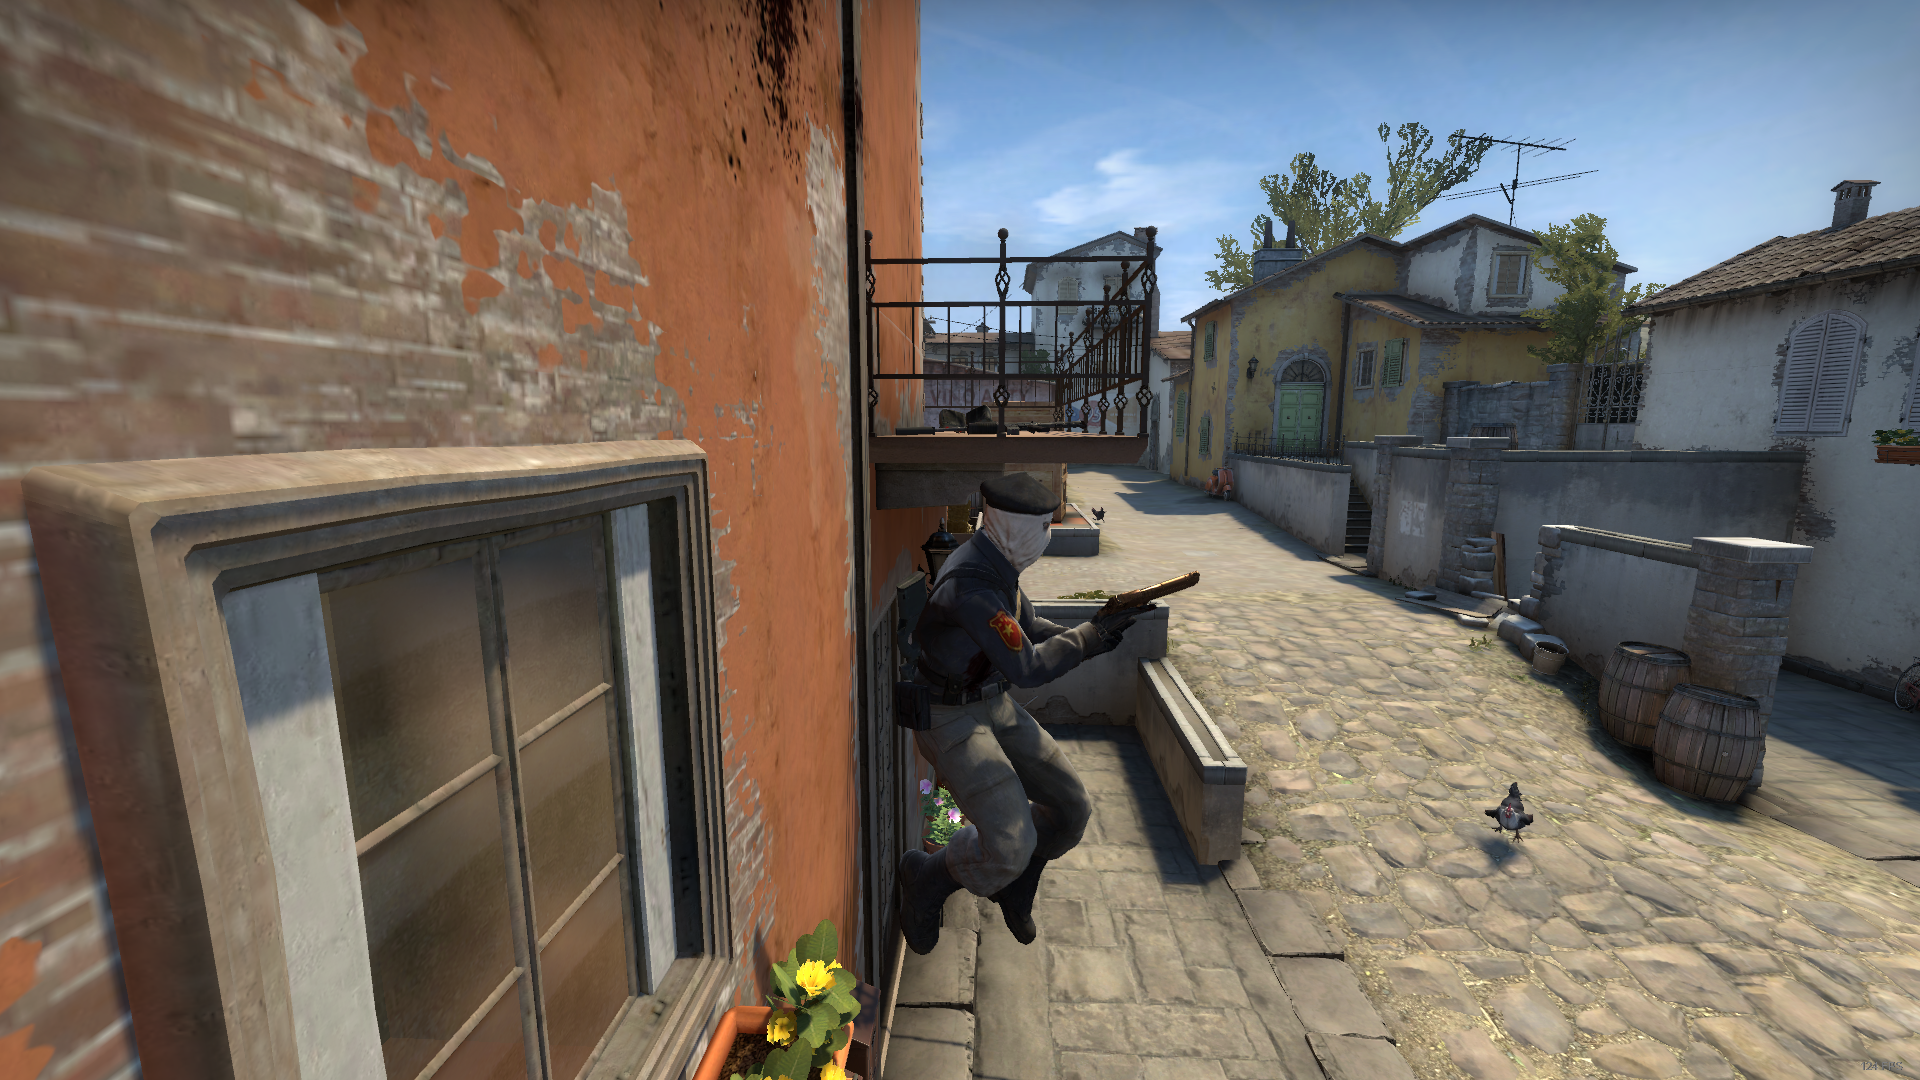t: (866, 464, 1164, 972)
